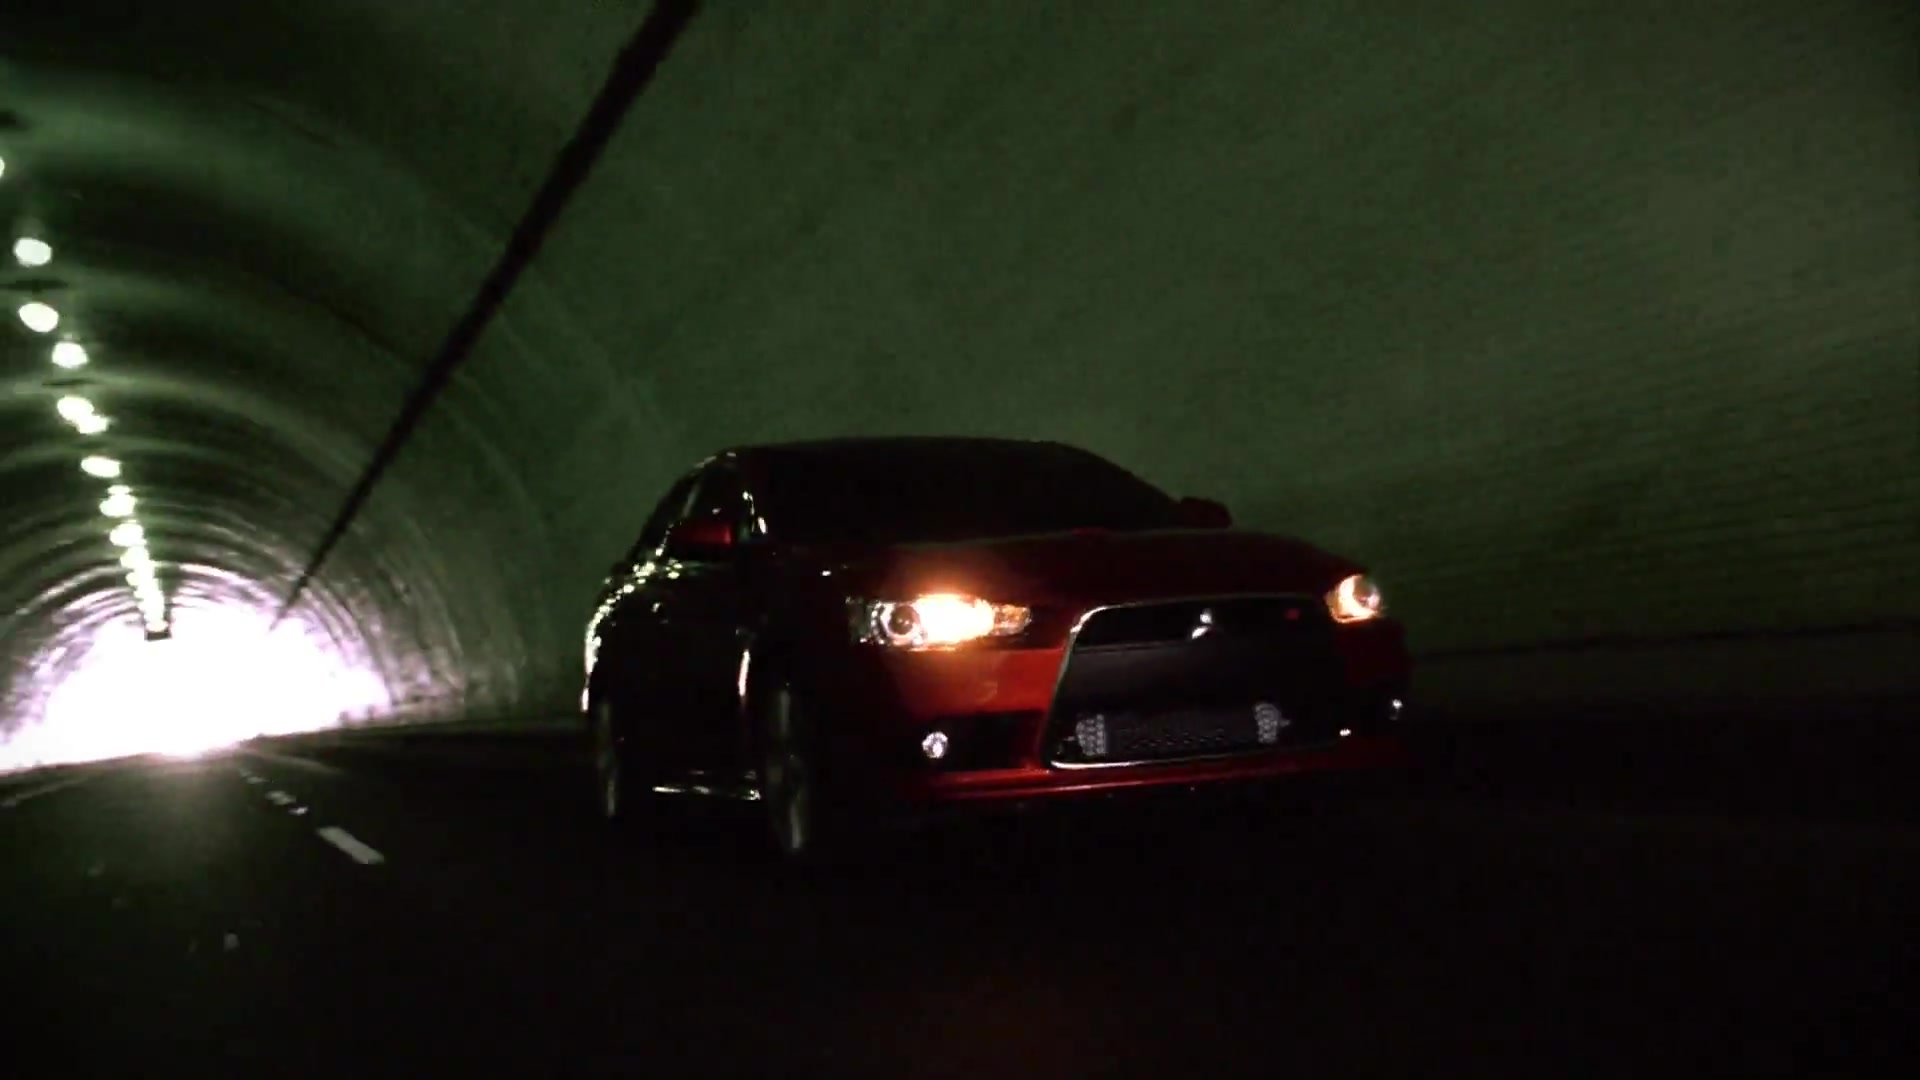car: (585, 425, 1437, 886)
